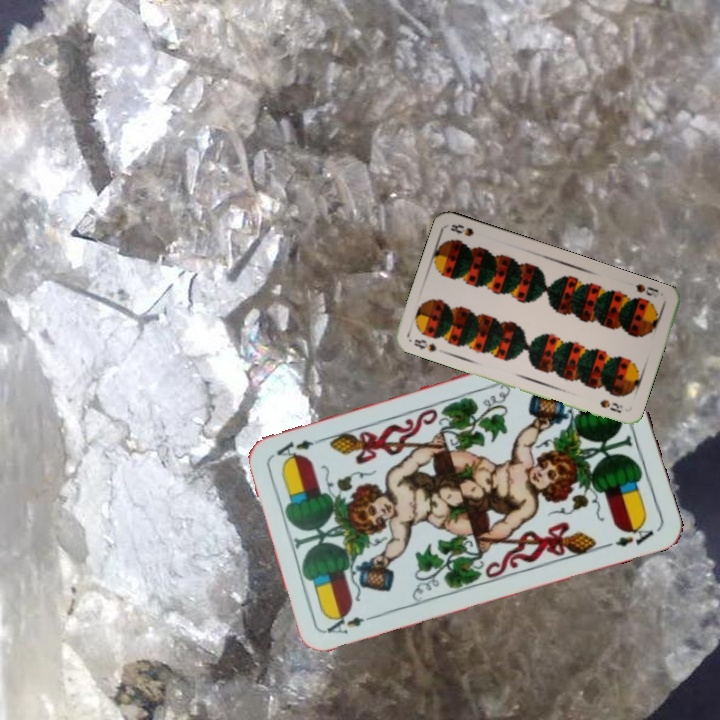EA: (322, 610, 381, 637)
S8: (632, 280, 666, 300), (410, 335, 439, 355)
